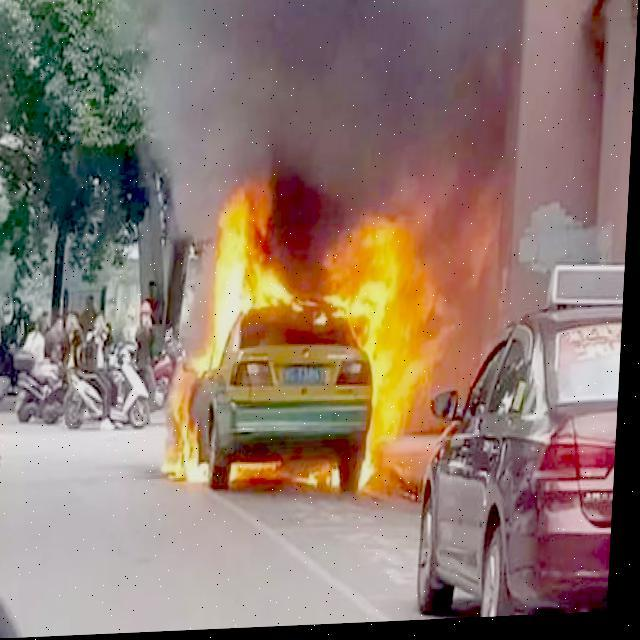Fire: (158, 172, 429, 506)
